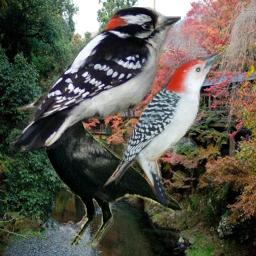Crow: (17, 91, 184, 248)
Woodpecker: (9, 7, 181, 152), (102, 52, 226, 214)
